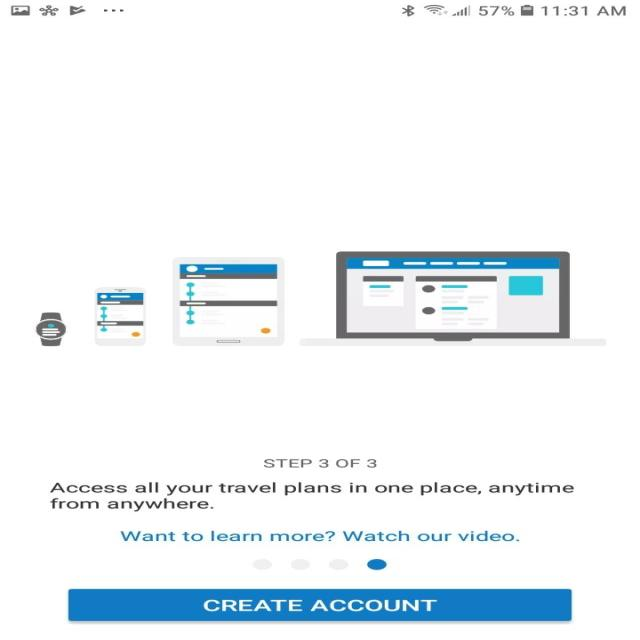Image: (34, 251, 606, 346)
Text: (49, 481, 574, 512), (120, 530, 519, 541), (263, 458, 377, 468)
TextButton: (68, 589, 572, 621)
